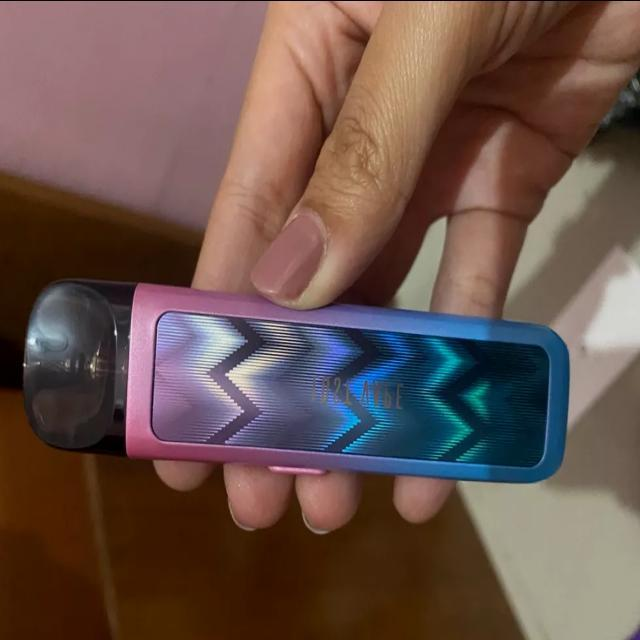Hazard: (22, 279, 571, 486)
